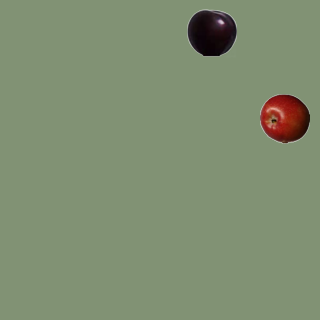Apple Braeburn: (259, 93, 309, 143)
Cherry Wax Black: (186, 7, 236, 57)
